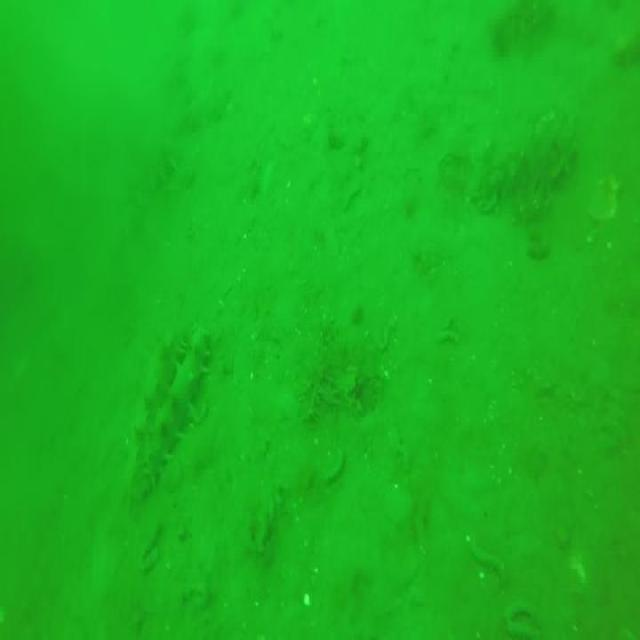holothurian: (125, 327, 215, 498)
scallop: (590, 174, 620, 227)
